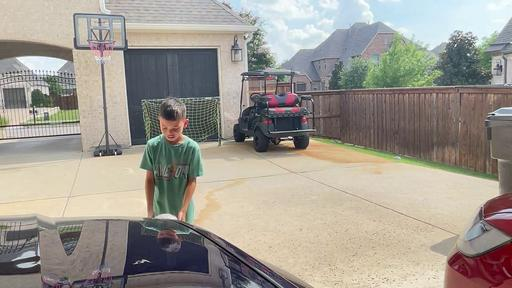ball: (153, 214, 178, 222)
human: (140, 97, 204, 228)
rim: (87, 38, 115, 60)
